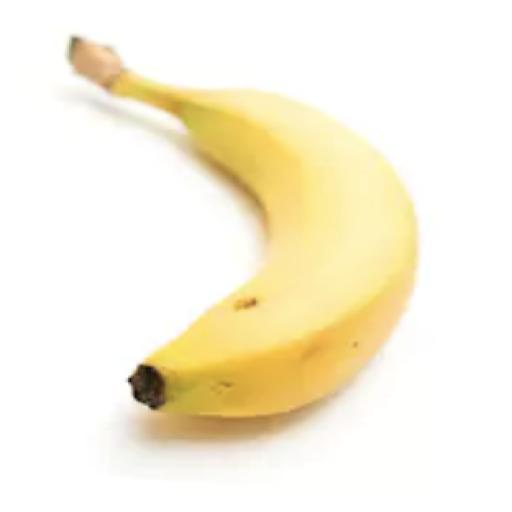banana: (71, 39, 416, 416)
